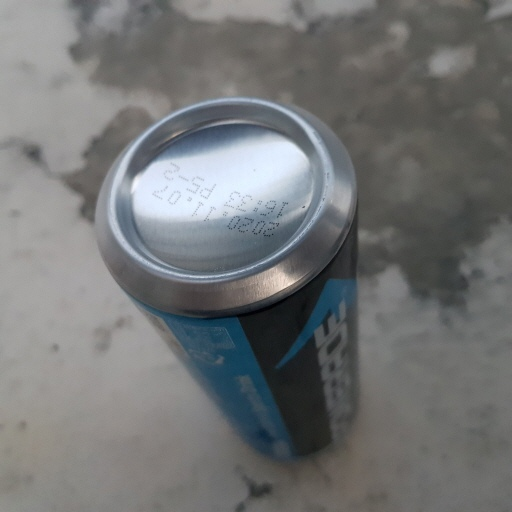Metal_0: (86, 95, 365, 461)
